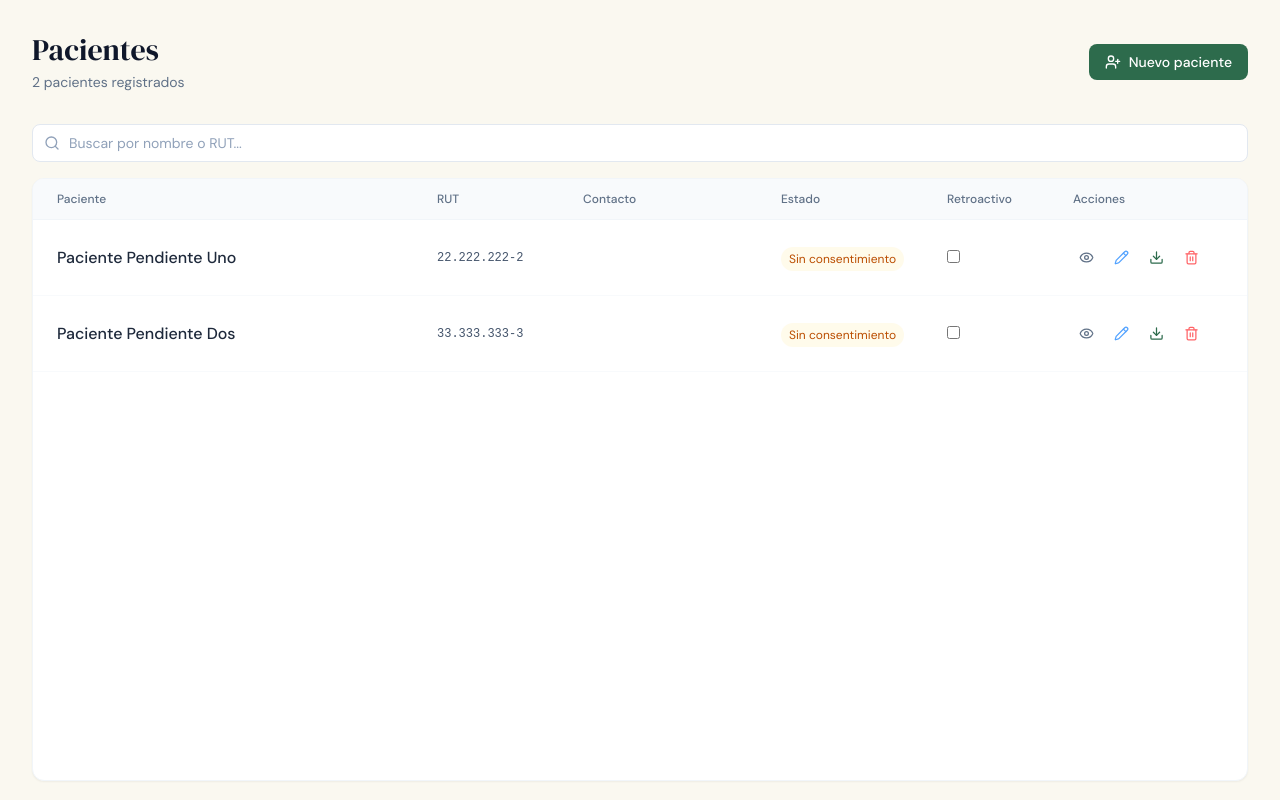
Test: PatientsPage › Declaración retroactiva de consentimiento (issue #131) › declara consentimiento en bloque para los pacientes seleccionados y limpia la selección
Click the checkbox named "declarar consentimiento retroactivo de paciente pendiente uno" at (954, 256), box [947,250,960,262]
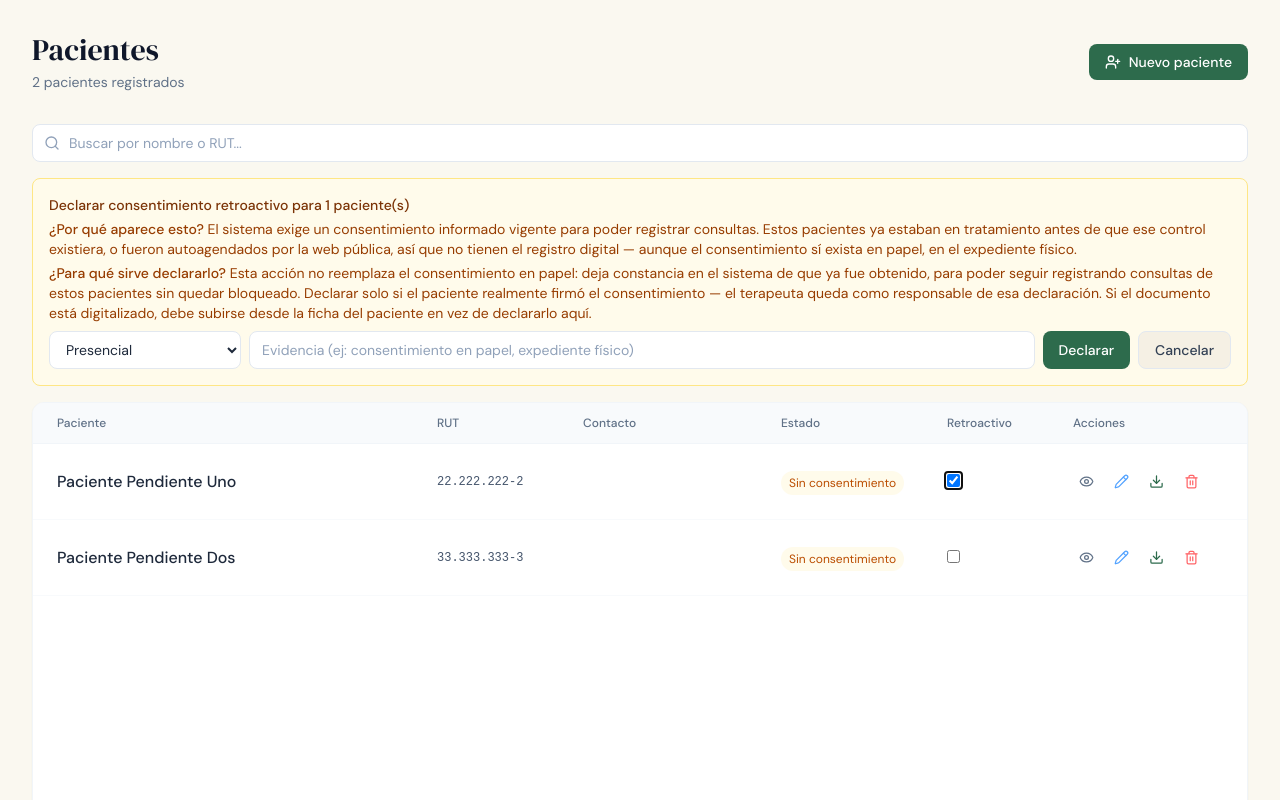
Click the checkbox named "declarar consentimiento retroactivo de paciente pendiente dos" at (954, 556), box [947,550,960,562]
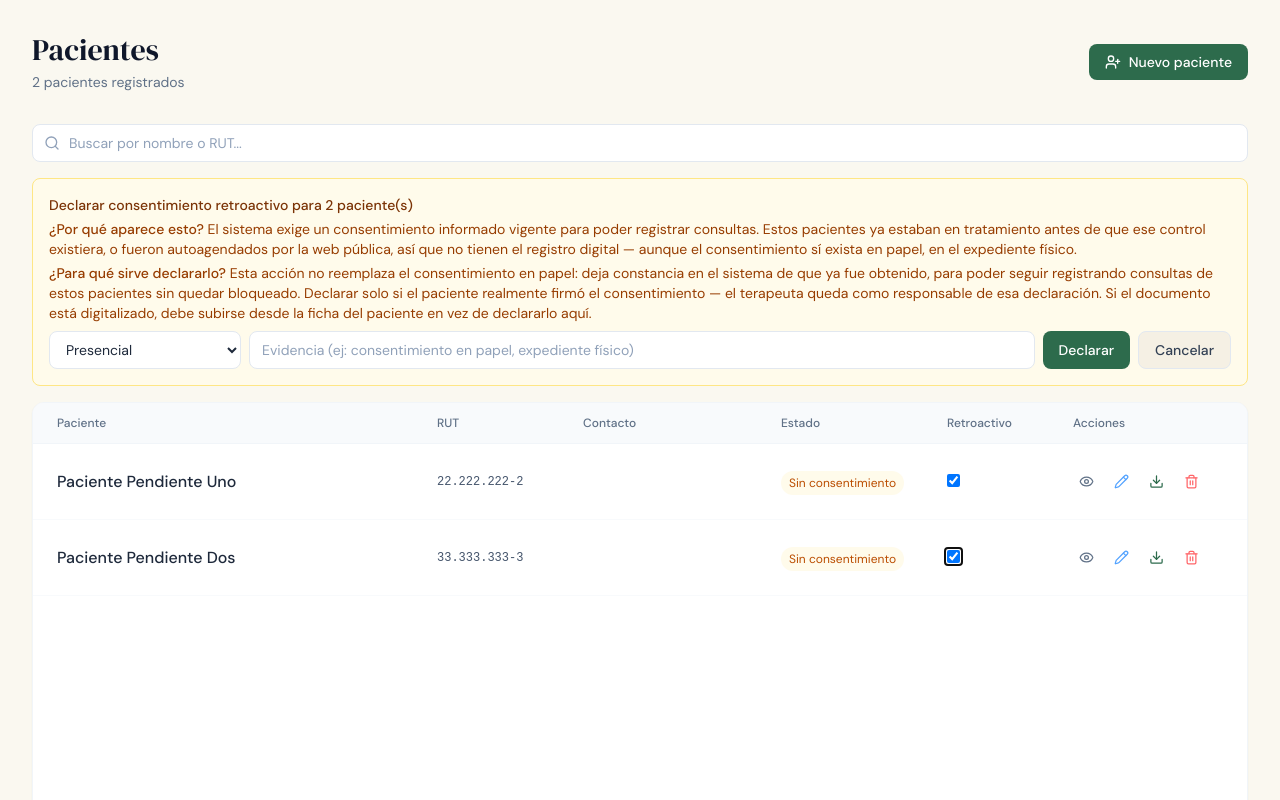
Type "Consentimiento en papel del expediente físico" into the field with placeholder "Evidencia (ej: consentimiento en papel, expediente físico)" at (642, 350), box [249,331,1034,369]
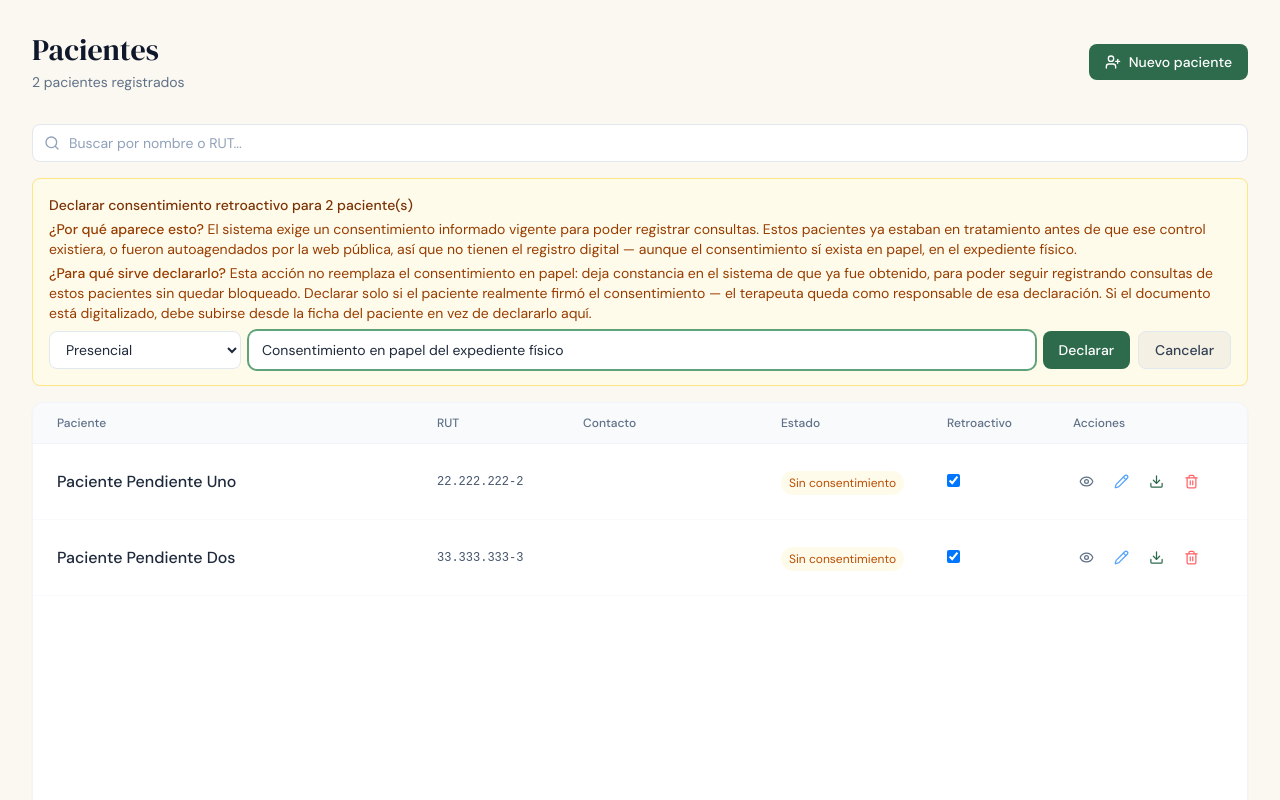
Click the button "Declarar" at (1086, 350), box [1042,331,1130,369]
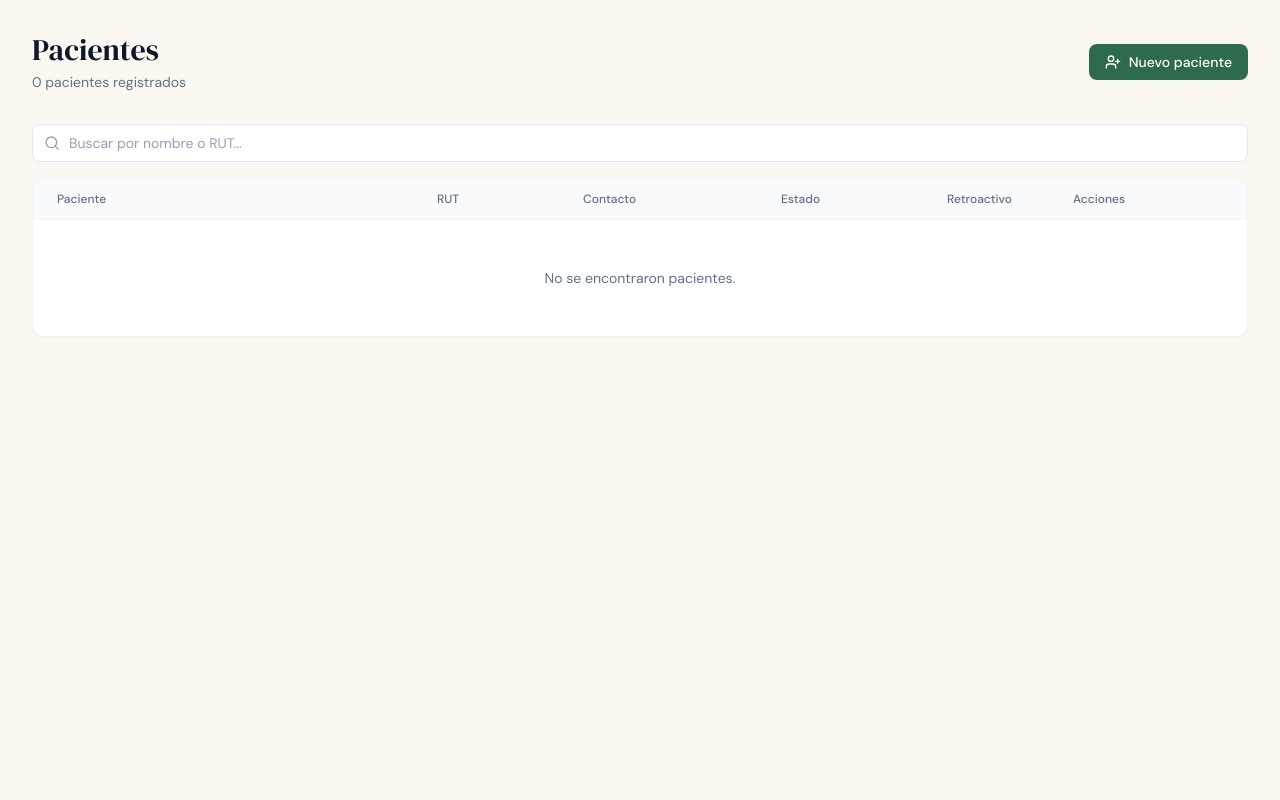
Expected: the button "Declarar" is gone
